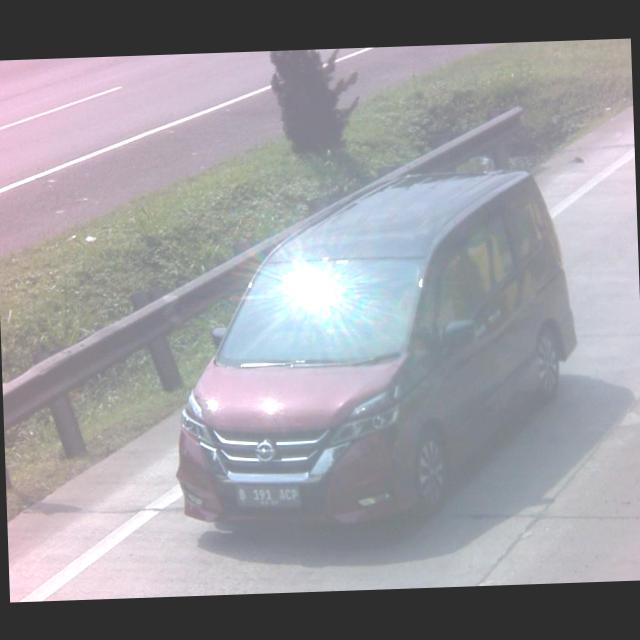plate: (232, 482, 301, 510)
